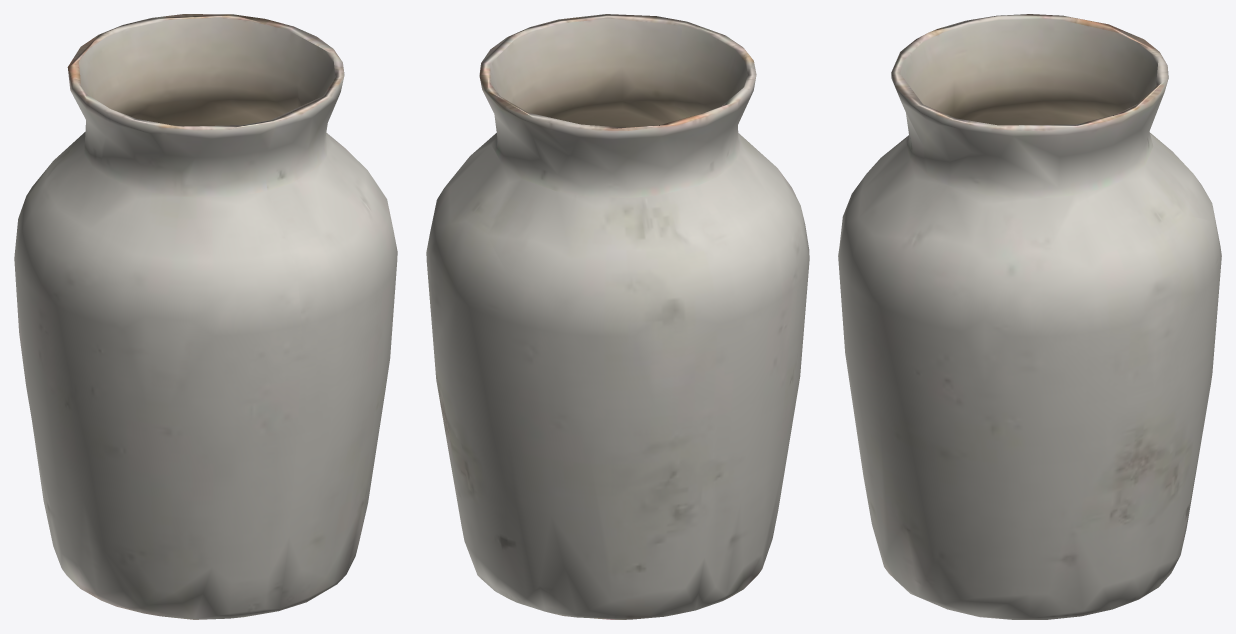
Rendered from ceramic_vase_02.glb.
The picture shows the model from 3 angles, left to right: view 1: azimuth 30°, elevation 25°; view 2: azimuth 150°, elevation 25°; view 3: azimuth 270°, elevation 25°; orthographic projection.
Parts seen in each view (by area): view 1: ceramic_vase_02; view 2: ceramic_vase_02; view 3: ceramic_vase_02.
Part boxes in pixels (bbox=[...]): ceramic_vase_02: bbox=[14, 14, 397, 619]; ceramic_vase_02: bbox=[426, 14, 809, 619]; ceramic_vase_02: bbox=[838, 14, 1221, 619].
Size of the model in its own units: 0.2184 by 0.309 by 0.2184.
1 material, 1 textured.
